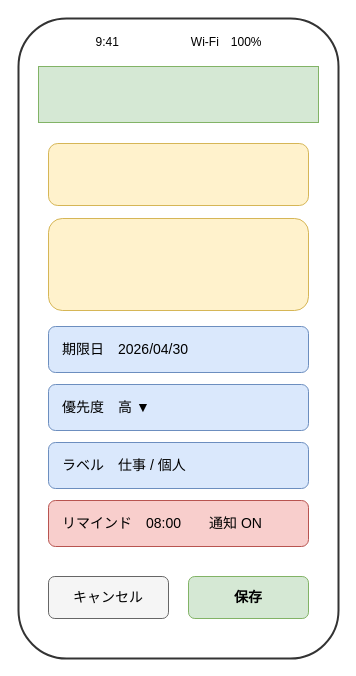
Image size: 356x676. Some labels were removed from this diagram. Here are the shapes that lost their labels. From the top down, the centre of each, then its label:
pixel 178 94: 新規タスク登録
pixel 178 174: タイトル タスク名を入力
pixel 178 264: 詳細 内容を入力
